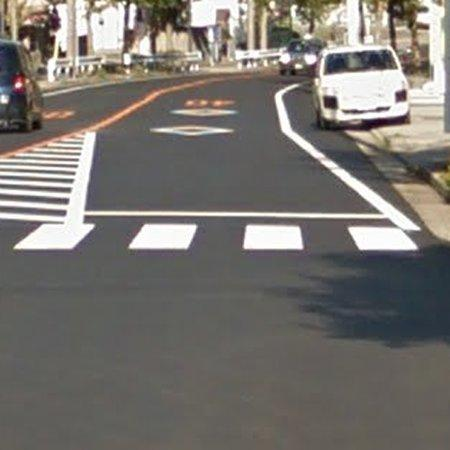crosswalks: (9, 218, 423, 256)
